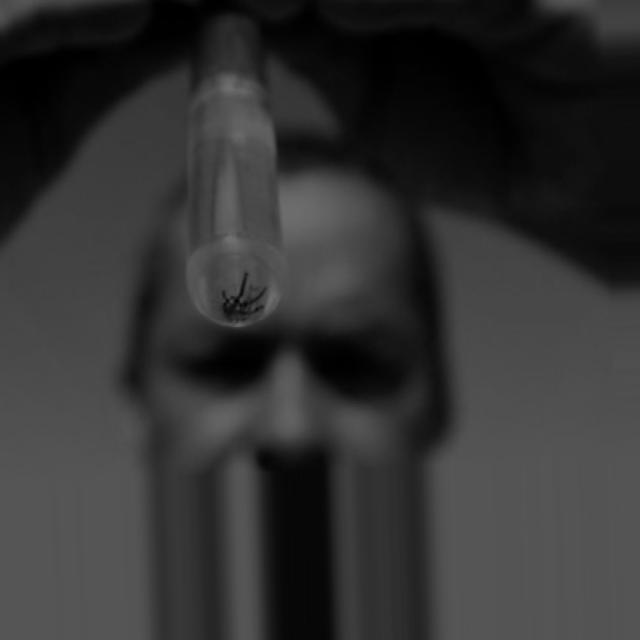larvas: (227, 273, 249, 317), (239, 287, 267, 310), (217, 288, 233, 313), (236, 304, 265, 316)
